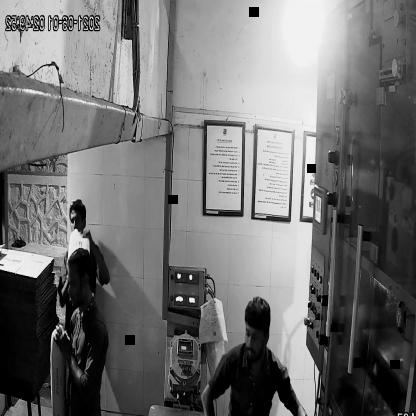no_goggles: (237, 321, 274, 351), (66, 271, 95, 294)
